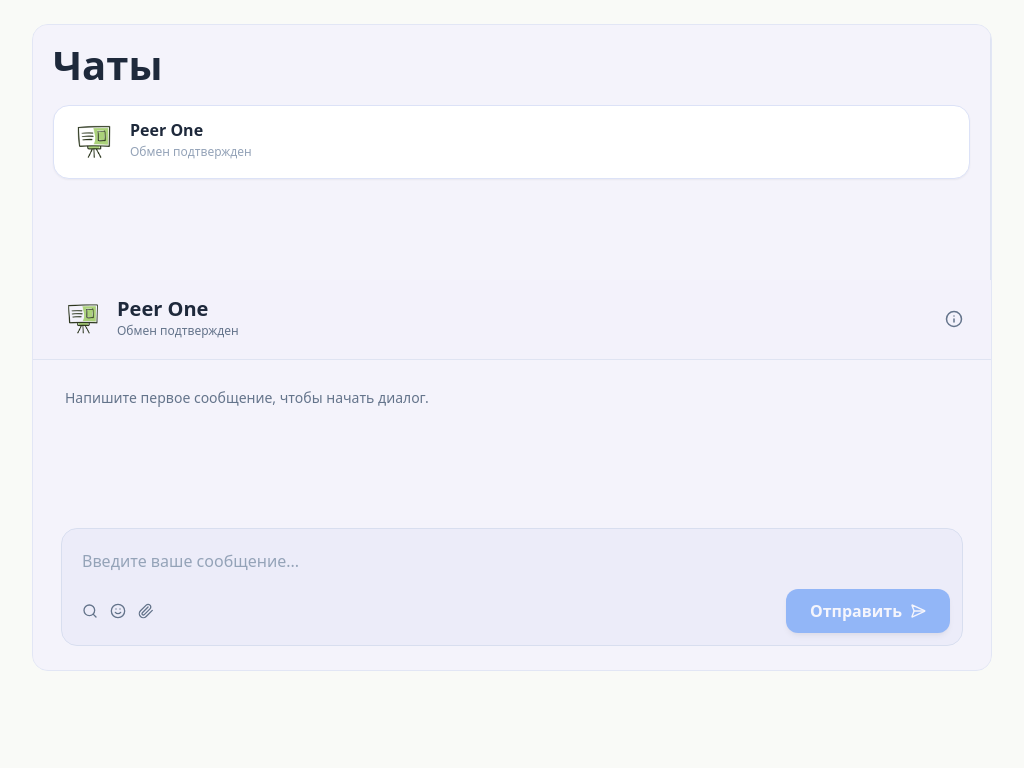
Scenario: ChatPage › sends message in selected dialog
In the field with placeholder "Введите ваше сообщение...": (512, 561) [74,541,950,581], type "new message text"
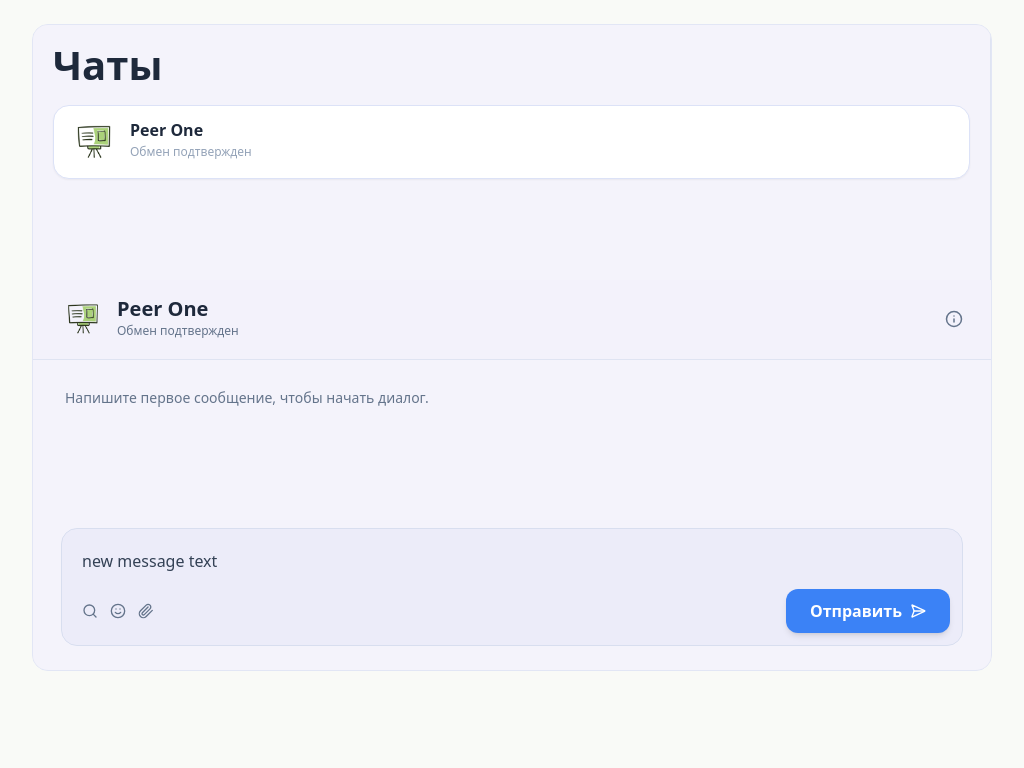
Click the submit button: (868, 611) [786,589,950,633]
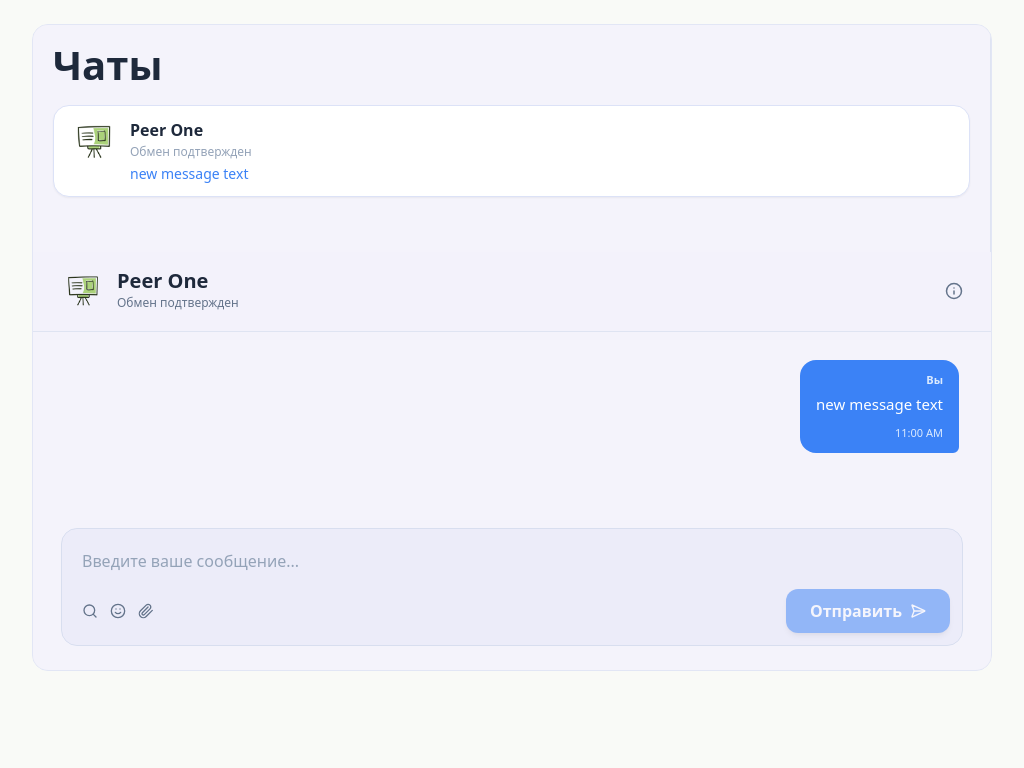
expect the number of elements with test id "chat-message-bubble" is 1: met, box [800,360,959,453]
expect the text "Вы" is shown: met, box [926,372,943,387]
